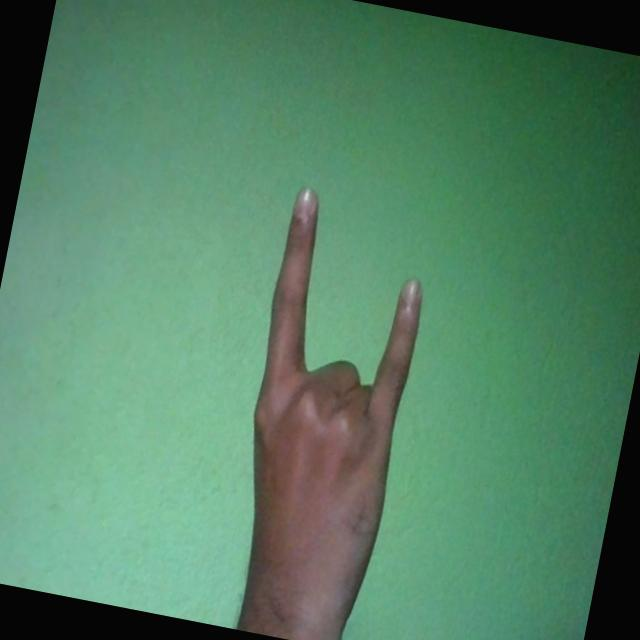open Plam: (209, 185, 442, 640)
